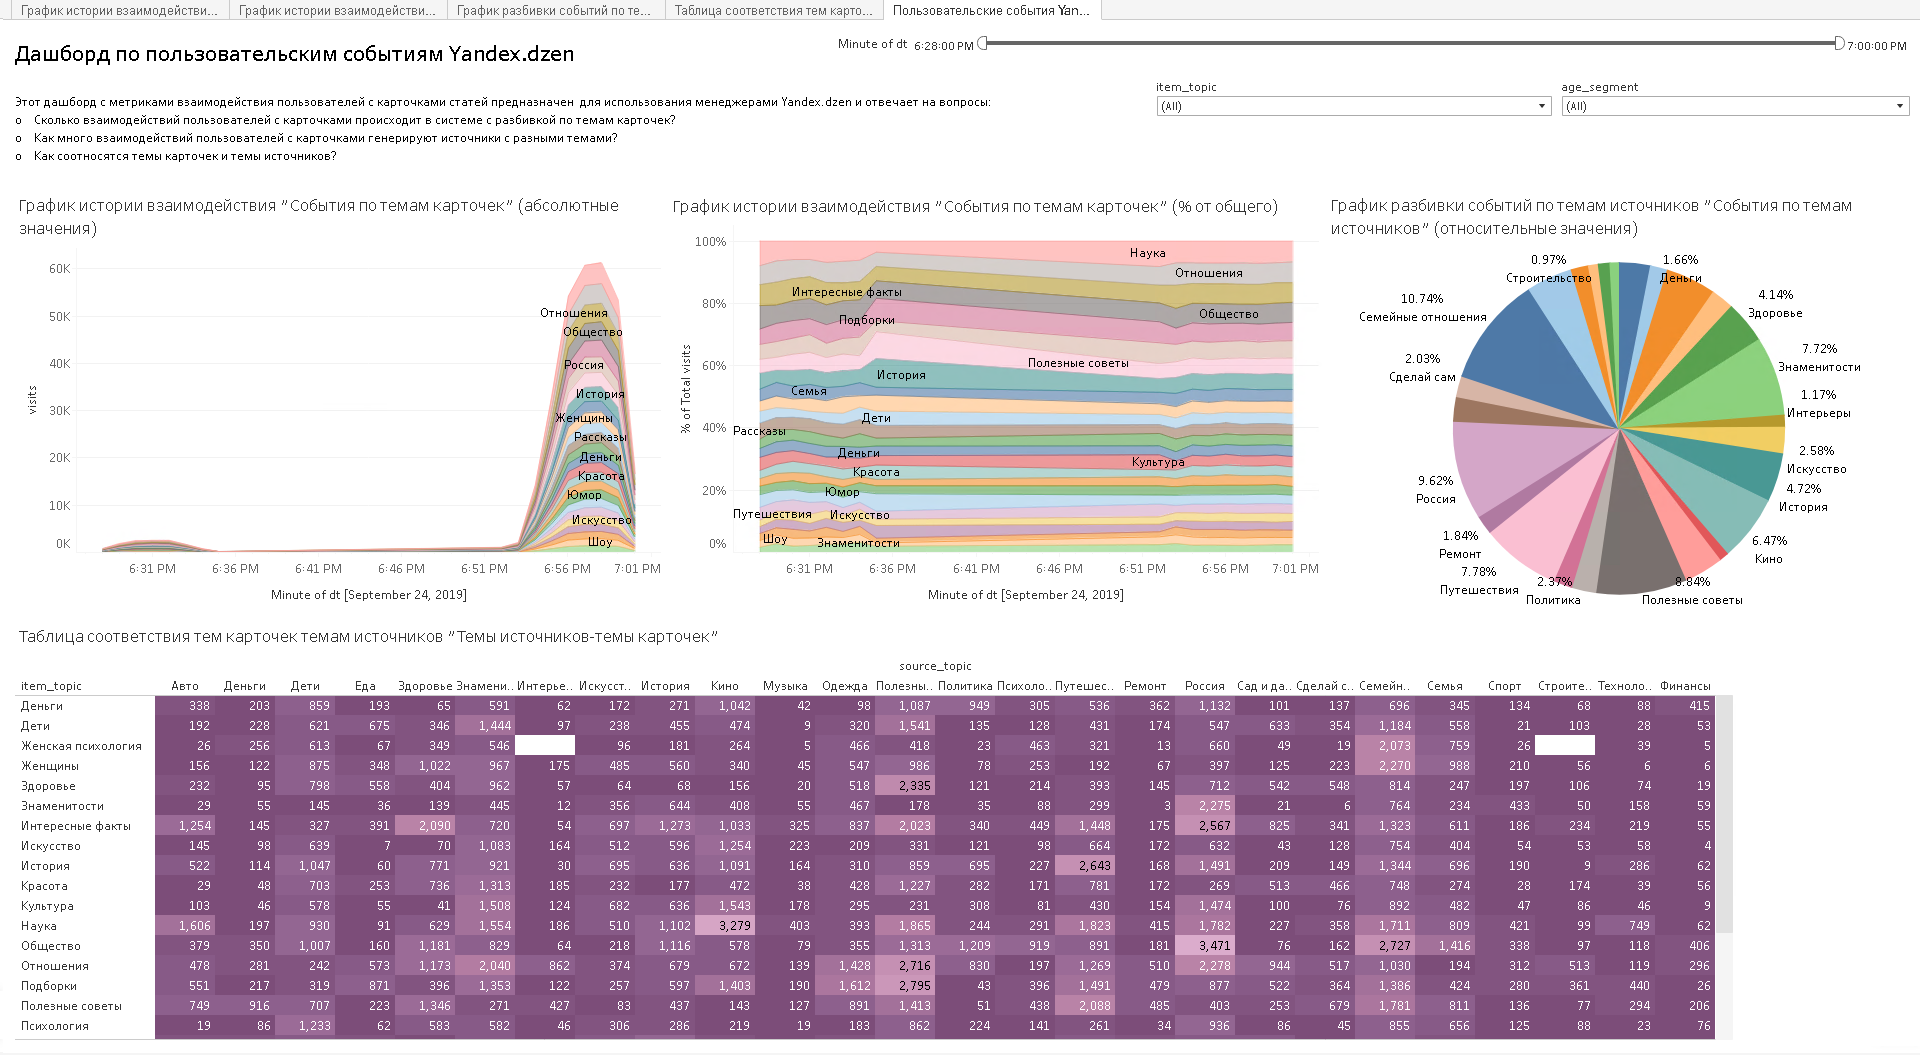

This screenshot's page, from the dashboard's own definition file:
{"tool":"tableau","page":{"name":"Пользовательские события Yandex.dzen","canvas":[1000,1000],"units":"permille","ordinal":0},"visuals":[{"type":"text","box":[4.7,10.2,428.4,41.7]},{"type":"filter","title":"График истории взаимодействия \"События по темам карточек\" (абсолютные значения)","param":"[federated.1pcftqe1rszkgw1fbnhia1pay4qz].[tmi:dt:qk]","box":[433.1,10.2,562.2,41.7]},{"type":"text","box":[4.7,52,593.4,105.6]},{"type":"filter","title":"График истории взаимодействия \"События по темам карточек\" (% от общего)","param":"[federated.1pcftqe1rszkgw1fbnhia1pay4qz].[none:item_topic:nk]","box":[598.1,52,211,105.6]},{"type":"filter","title":"График истории взаимодействия \"События по темам карточек\" (% от общего)","param":"[federated.1pcftqe1rszkgw1fbnhia1pay4qz].[none:age_segment:nk]","box":[809.1,52,186.2,105.6]},{"type":"worksheet","title":"График истории взаимодействия \"События по темам карточек\" (абсолютные значения)","mark":"Area","rows":["visits"],"cols":["dt"],"box":[4.7,157.6,340.3,416.1]},{"type":"worksheet","title":"График истории взаимодействия \"События по темам карточек\" (% от общего)","mark":"Area","cols":["dt"],"box":[345,157.6,342.1,416.1]},{"type":"worksheet","title":"График разбивки событий по темам источников \"События по темам источников\" (относительные значения)","mark":"Pie","box":[687.1,157.6,308.2,416.1]},{"type":"worksheet","title":"Таблица соответствия тем карточек темам источников \"Темы источников-темы карточек\"","mark":"Square","rows":["item_topic"],"cols":["source_topic"],"box":[4.7,573.7,990.6,416.1]}]}

Visuals, with their boxes on the dashboard's canvas, which has no fixed pixel size, in thousandths of its width and height (x1, y1, x2, y2). These are canvas units, not pixel positions in the 1920x1055 screenshot, which may show the page scaled, cropped or inside an application window:
text: [x1=5, y1=10, x2=433, y2=52]
"График истории взаимодействия "События по темам карточек" (абсолютные значения)" filter: [x1=433, y1=10, x2=995, y2=52]
text: [x1=5, y1=52, x2=598, y2=158]
"График истории взаимодействия "События по темам карточек" (% от общего)" filter: [x1=598, y1=52, x2=809, y2=158]
"График истории взаимодействия "События по темам карточек" (% от общего)" filter: [x1=809, y1=52, x2=995, y2=158]
"График истории взаимодействия "События по темам карточек" (абсолютные значения)" worksheet (Area marks): [x1=5, y1=158, x2=345, y2=574]
"График истории взаимодействия "События по темам карточек" (% от общего)" worksheet (Area marks): [x1=345, y1=158, x2=687, y2=574]
"График разбивки событий по темам источников "События по темам источников" (относительные значения)" worksheet (Pie marks): [x1=687, y1=158, x2=995, y2=574]
"Таблица соответствия тем карточек темам источников "Темы источников-темы карточек"" worksheet (Square marks): [x1=5, y1=574, x2=995, y2=990]
